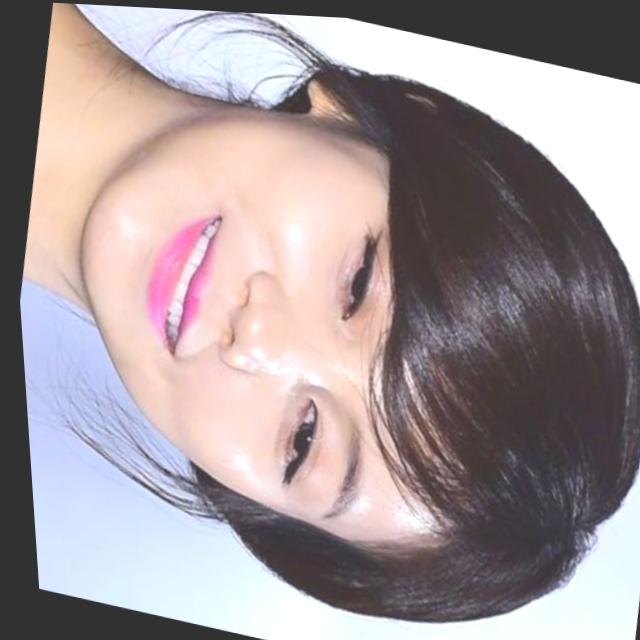face: (14, 50, 640, 632)
